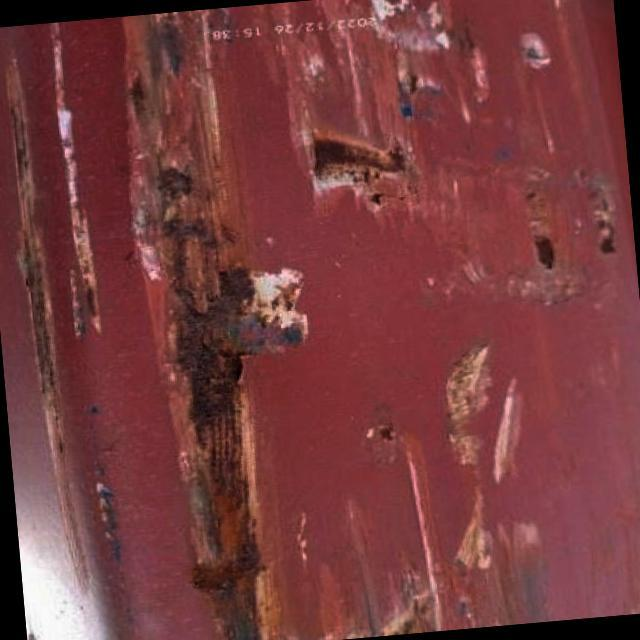rust: (147, 203, 300, 626)
